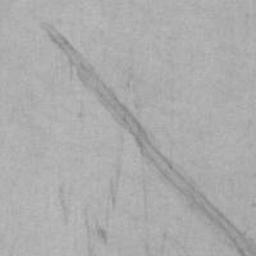Water spot: (44, 23, 256, 256)
